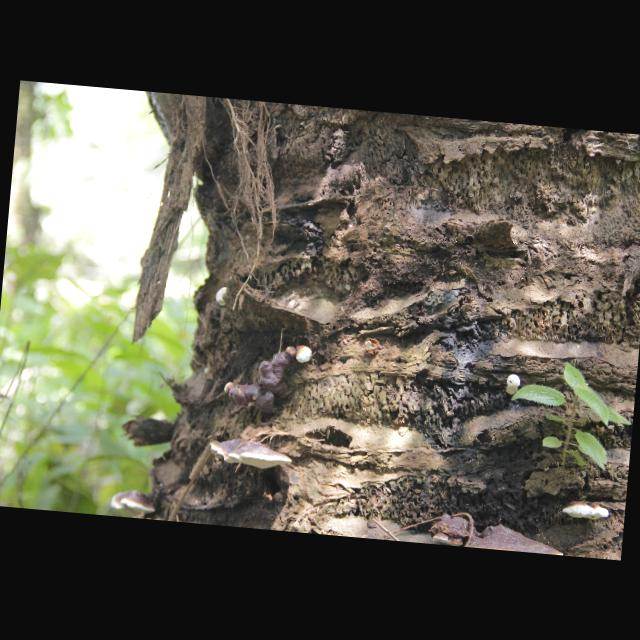ganoderma: (232, 342, 296, 422), (465, 523, 567, 557), (208, 436, 294, 474), (427, 512, 477, 548), (110, 490, 158, 518), (563, 501, 611, 523)
primordium: (503, 375, 522, 397), (295, 345, 314, 364), (215, 287, 228, 308), (225, 381, 234, 395)
